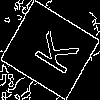K: (25, 25, 80, 77)
